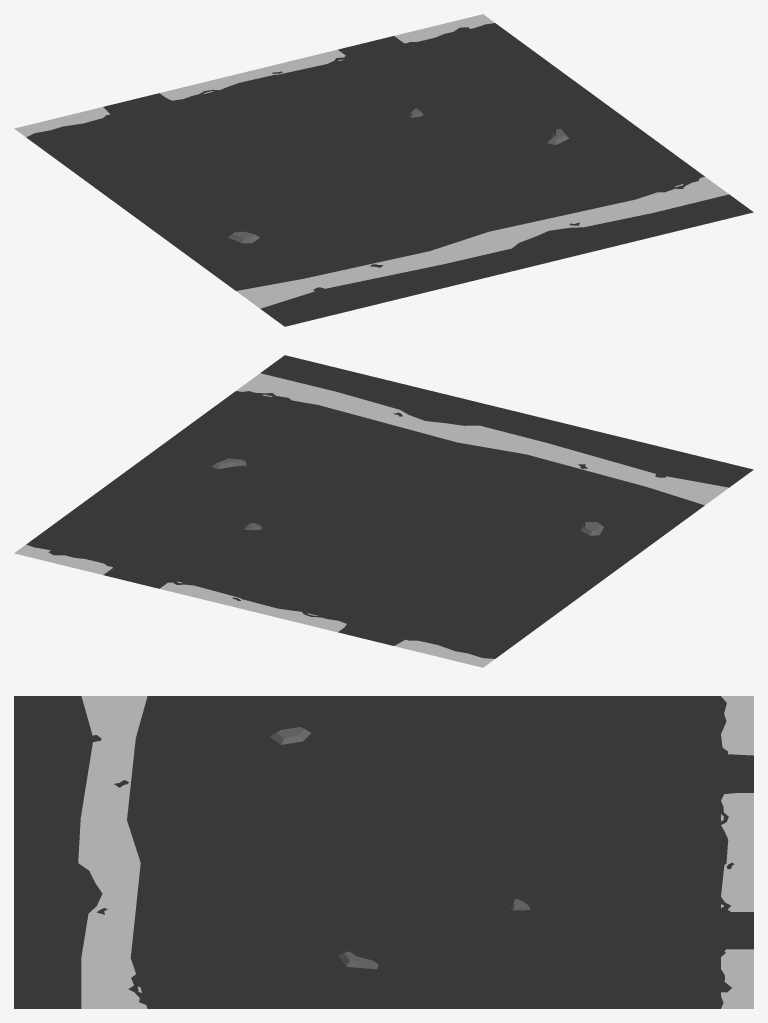
The model's file is Asphalt_15.FBX.
3 renders of one model, top to bottom at view 1: azimuth 30°, elevation 25°; view 2: azimuth 150°, elevation 25°; view 3: azimuth 270°, elevation 25°, orthographic. The views are drawn at different scales.
Visible parts, largest first — view 1: Asphalt_15; view 2: Asphalt_15; view 3: Asphalt_15.
Part boxes in pixels (x1,y1,x2,y2): Asphalt_15: (14,14,753,326); Asphalt_15: (14,355,753,667); Asphalt_15: (14,696,753,1008).
Size of the model in its own units: 5 by 0.03 by 5.
